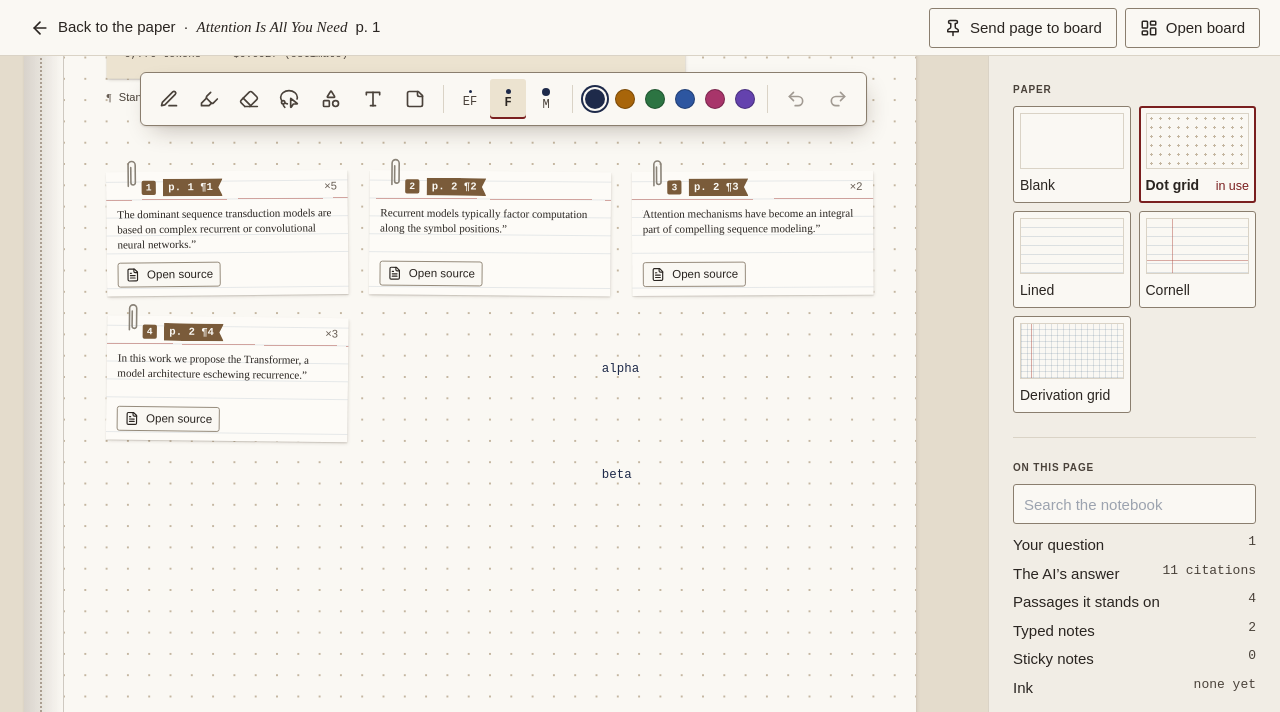
it: a failed save › Try again re-sends every failed write
(page scrolled)
Press ArrowLeft in the button with aria-label "Typed note: alpha", box left=602, top=361, right=639, bottom=375
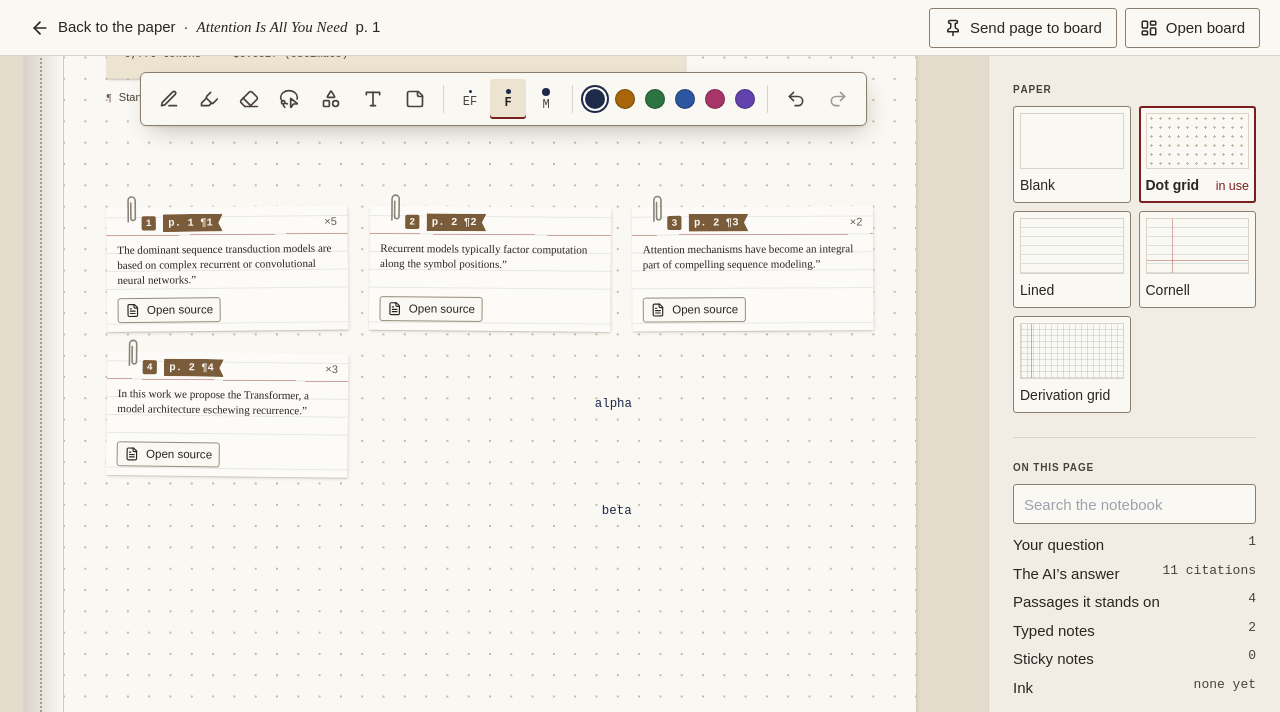
Press ArrowRight in the button with aria-label "Typed note: beta", box left=602, top=503, right=632, bottom=517
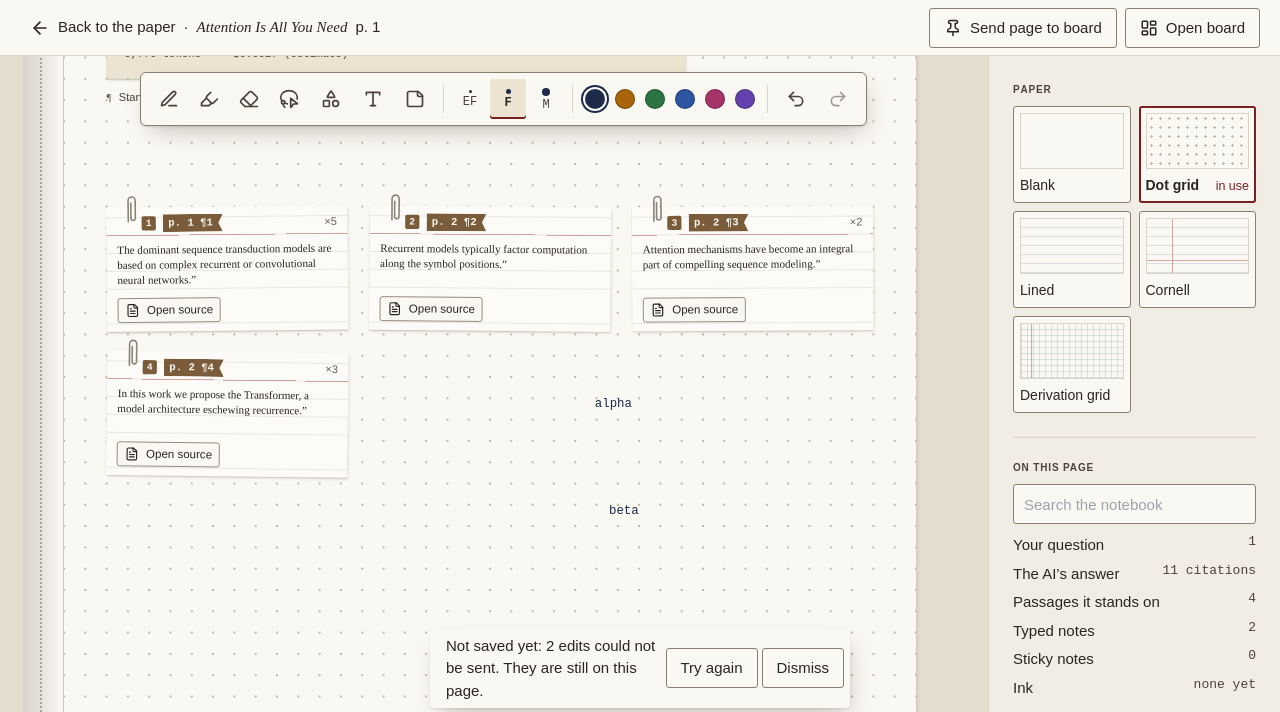
Check: the text "Not saved yet: 2 edits could not be sent. They are still on this page." is shown, box left=446, top=634, right=662, bottom=702
Click the button "Try again": click(712, 668) left=666, top=648, right=758, bottom=688
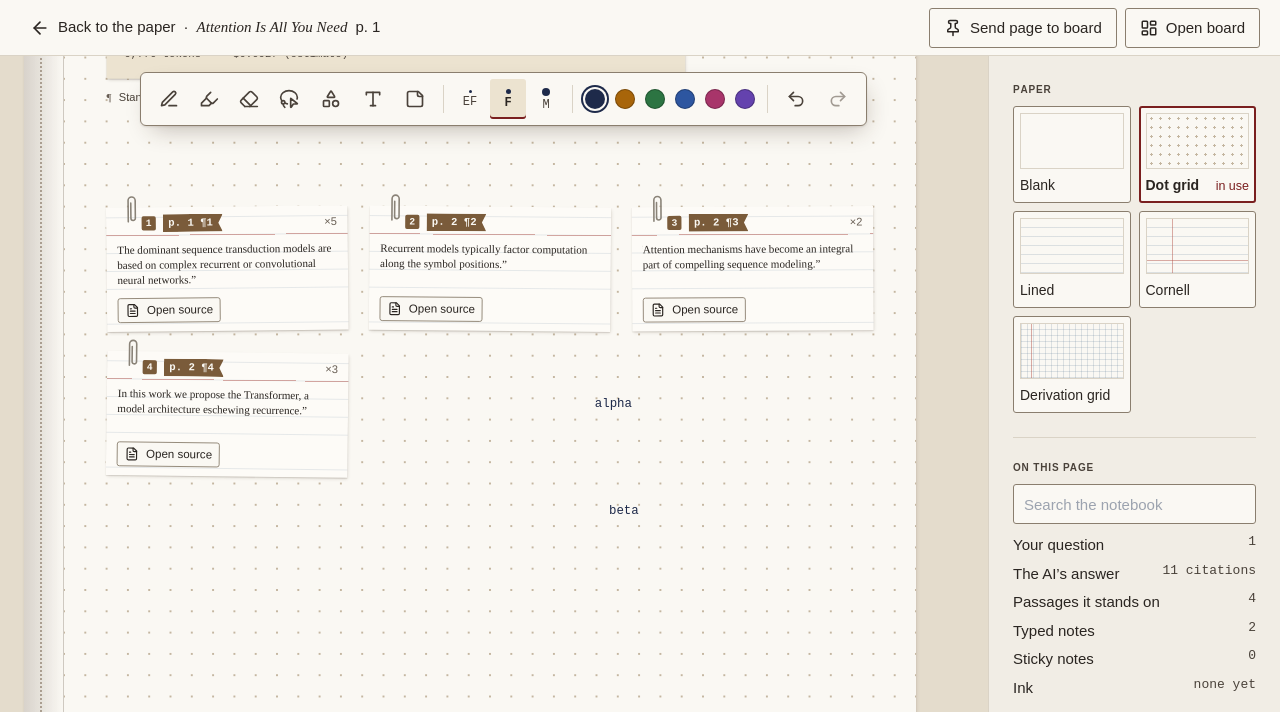
Check: the text "Not saved" is gone
